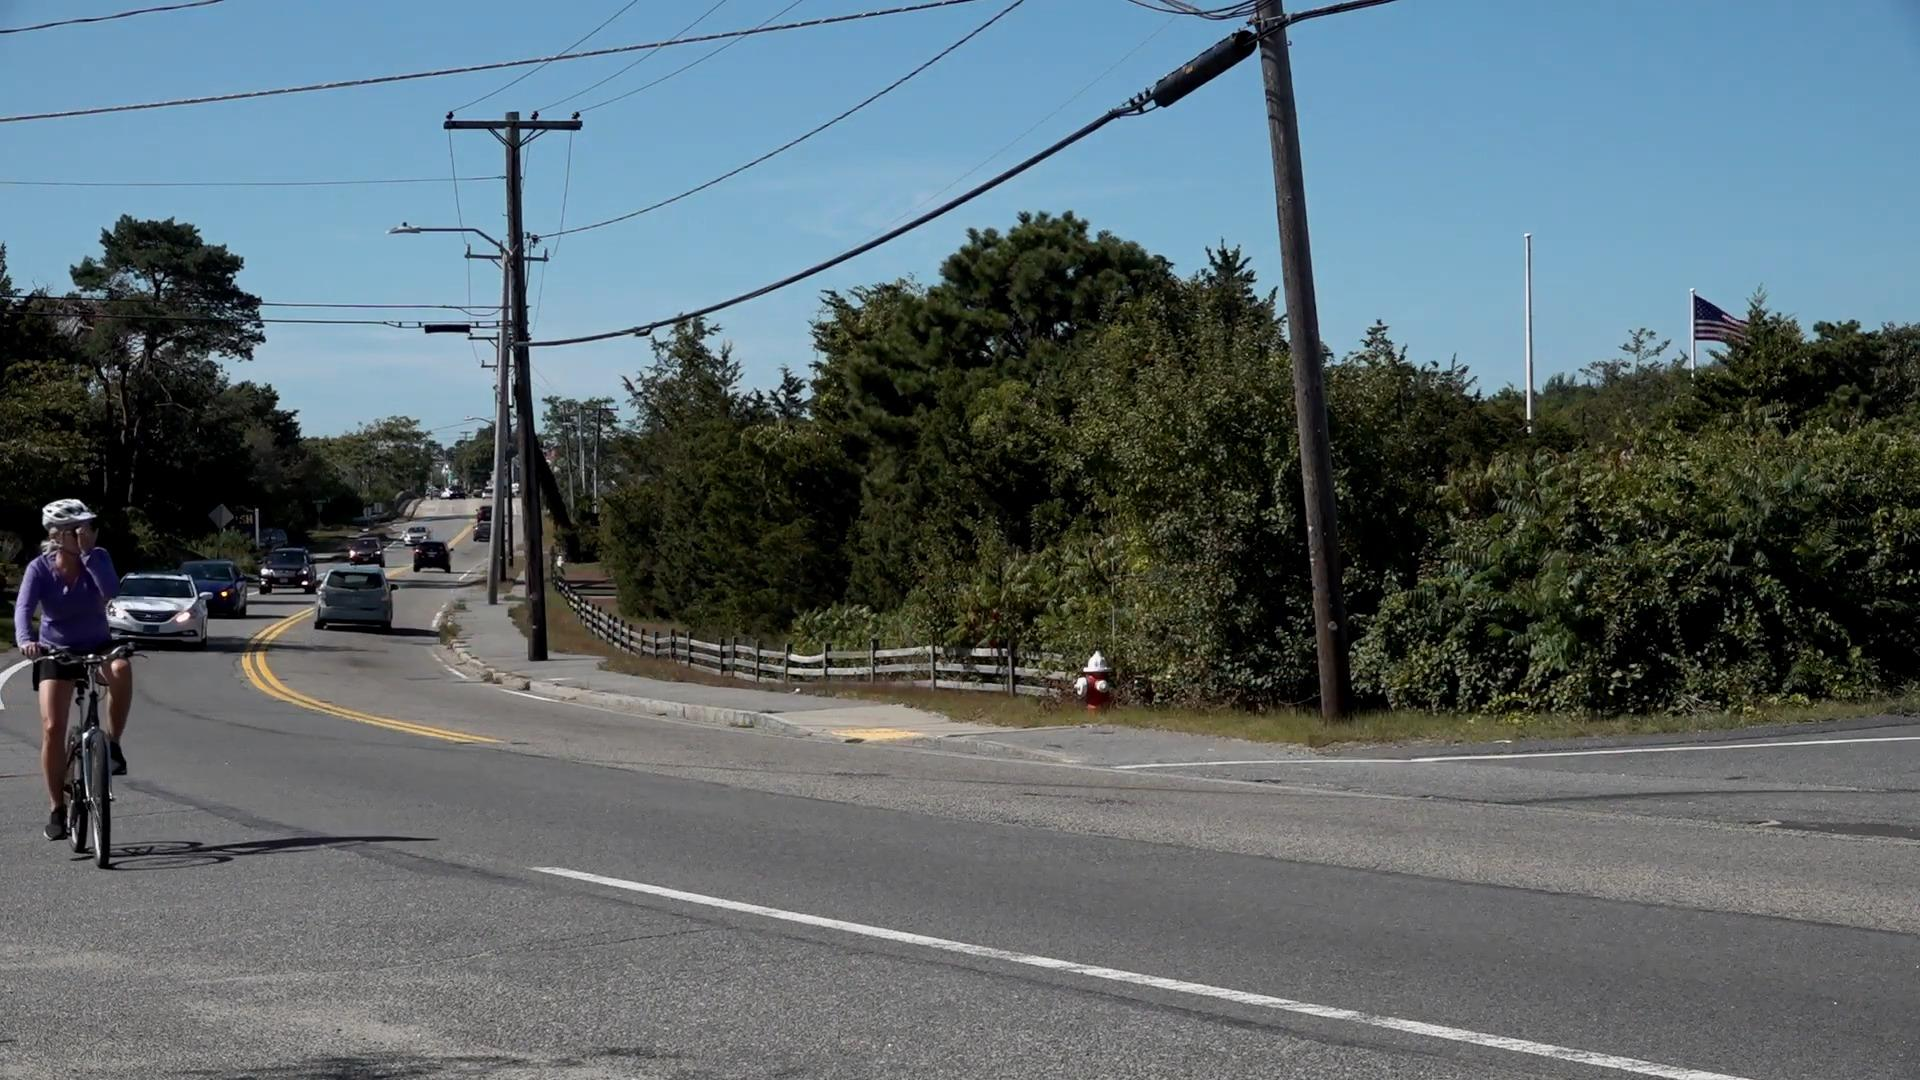sedans: (99, 571, 208, 654)
